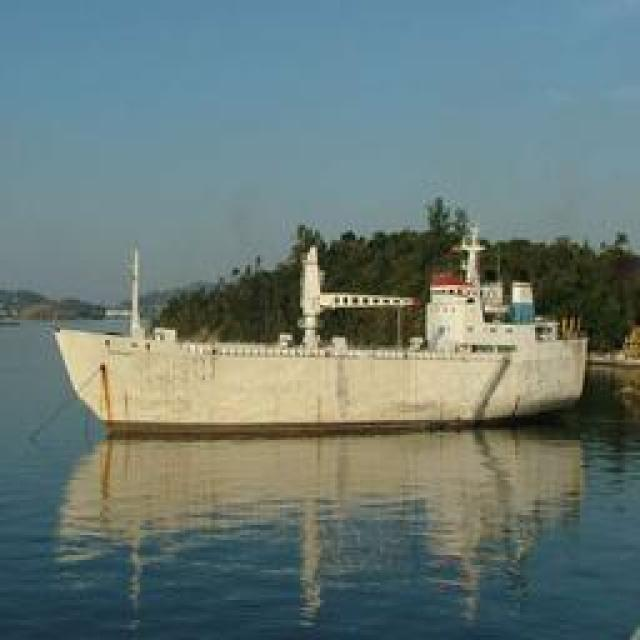CIV_Ship: (54, 325, 594, 433)
